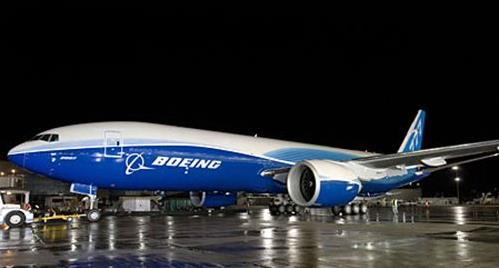airplane: (5, 109, 499, 228)
